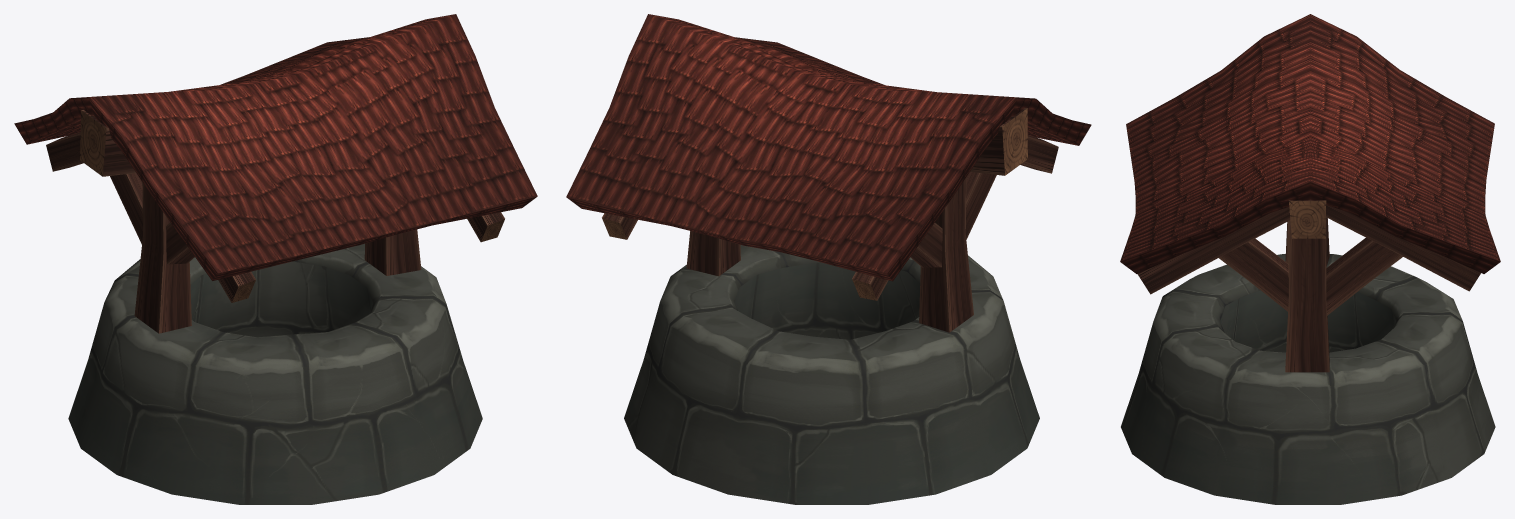
The model's file is Well.FBX.
3 views of the same model, side by side, from view 1: azimuth 30°, elevation 25°; view 2: azimuth 150°, elevation 25°; view 3: azimuth 270°, elevation 25° (orthographic). The views are drawn at different scales.
Visible parts, largest first — view 1: Box046, Box045, Box044; view 2: Box046, Box045, Box044; view 3: Box046, Box045, Box044.
Part boxes in pixels (box(x1,y1,x2,y2)): Box046: box(68, 243, 482, 504); Box045: box(14, 14, 537, 280); Box044: box(46, 110, 504, 333); Box046: box(624, 245, 1039, 504); Box045: box(566, 14, 1091, 281); Box044: box(602, 108, 1058, 332); Box046: box(1121, 254, 1495, 504); Box045: box(1120, 14, 1500, 273); Box044: box(1137, 199, 1480, 372).
Size of the model in its own units: 44.27 by 42.11 by 43.91.
